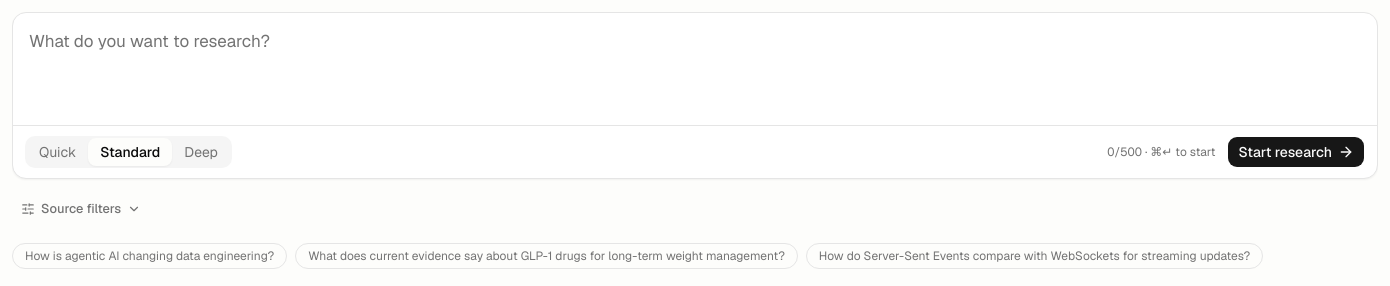
Scenario: ResearchForm › shows a validation error and does not submit short questions
Type "too short" into the text box named "Research question".
click(695, 69); type("too short")  # box [13,13,1377,125]
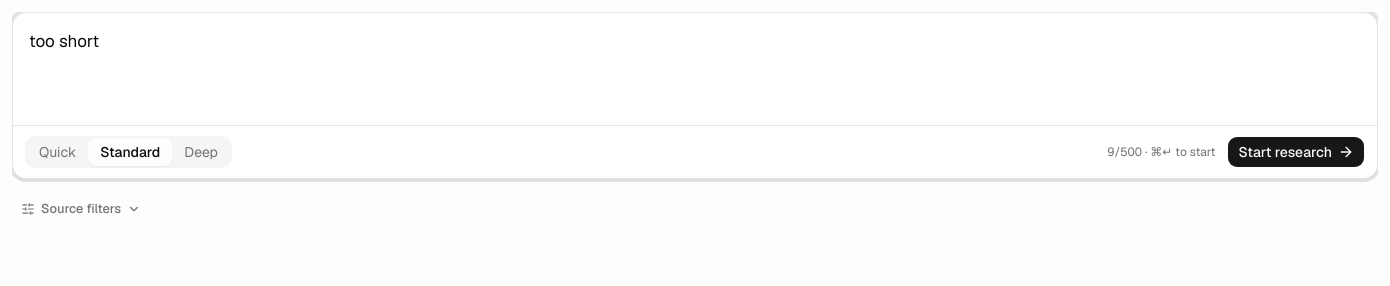
Click the button "Start research".
click(1296, 152)  # box [1228,136,1365,168]
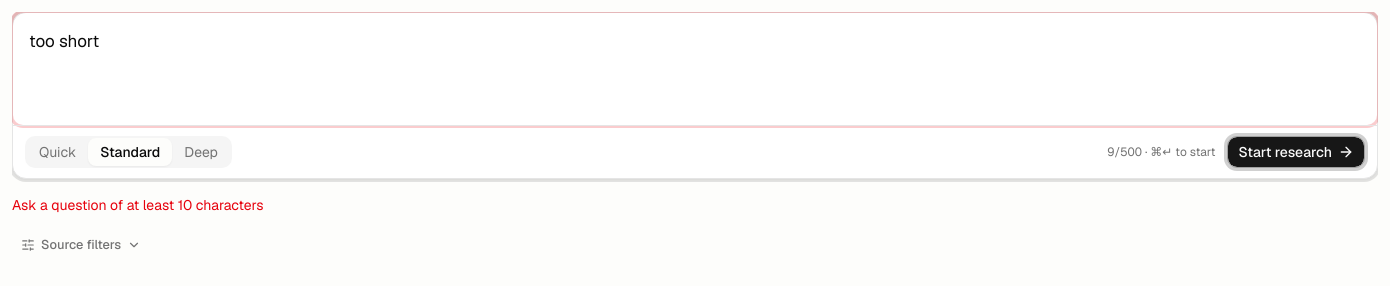
Result: the message shows "at least 10 characters" at [12,196,264,214]
